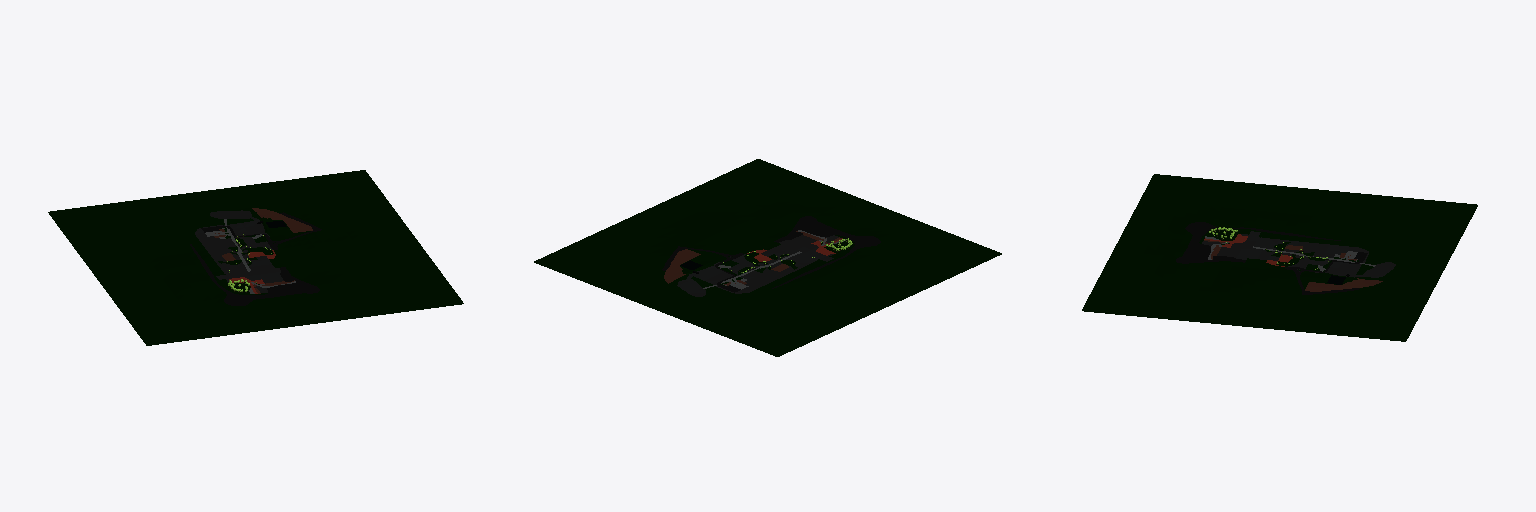
Rendered from campus_model_published.obj.
3 renders of one model, left to right at view 1: azimuth 30°, elevation 25°; view 2: azimuth 150°, elevation 25°; view 3: azimuth 270°, elevation 25°, orthographic.
Visible parts, largest first — view 1: Plane; view 2: Plane; view 3: Plane.
Boxes of the visible parts, x1=… form: Plane: x1=48, y1=170, x2=463, y2=345; Plane: x1=534, y1=159, x2=1001, y2=356; Plane: x1=1082, y1=174, x2=1477, y2=341.
Size of the model in its own units: 1218 by 21.87 by 1218.